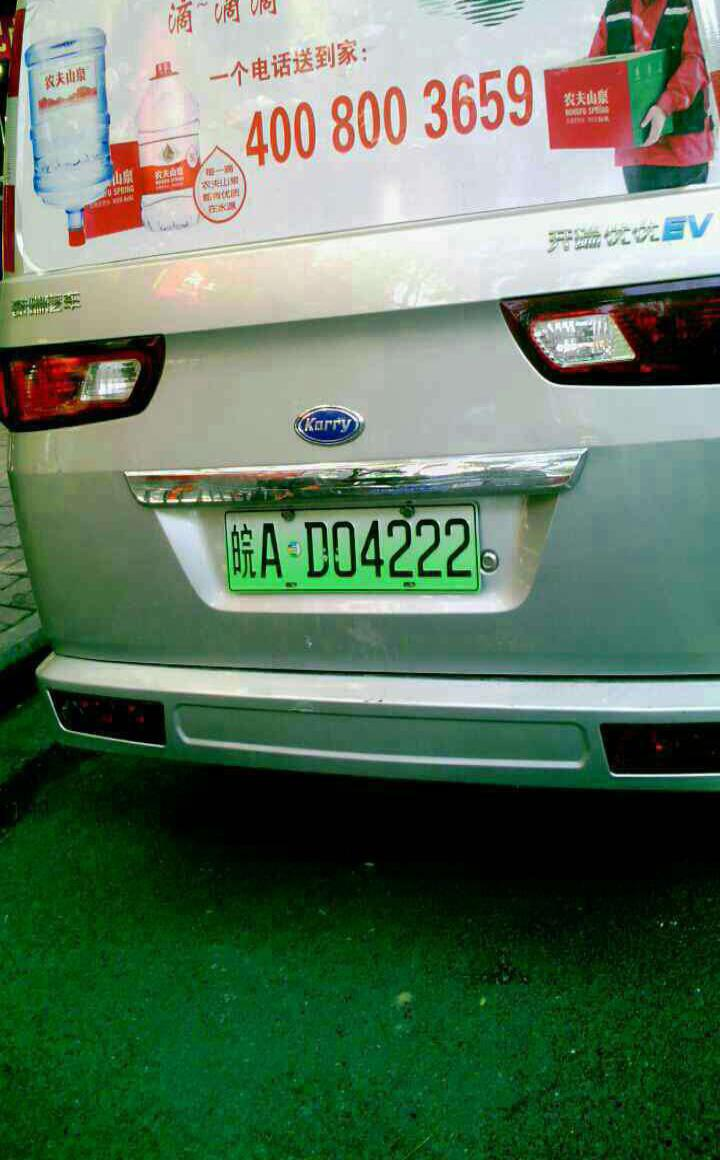car_green: (218, 512, 483, 597)
